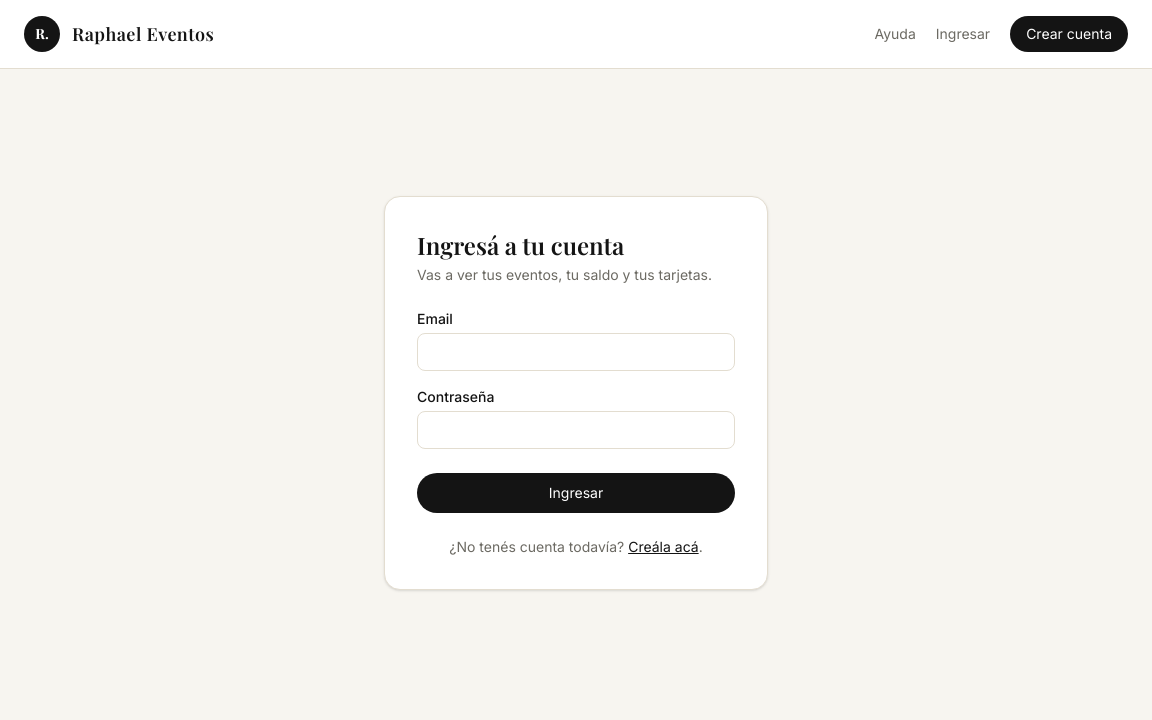
LoginPage › muestra errores de validación sin llegar a pegarle a la API
This screenshot has width=1152, height=720.
Type "no-es-un-email" into the field labelled "Email" at point(576, 352), box top-left (417, 332), bottom-right (735, 370)
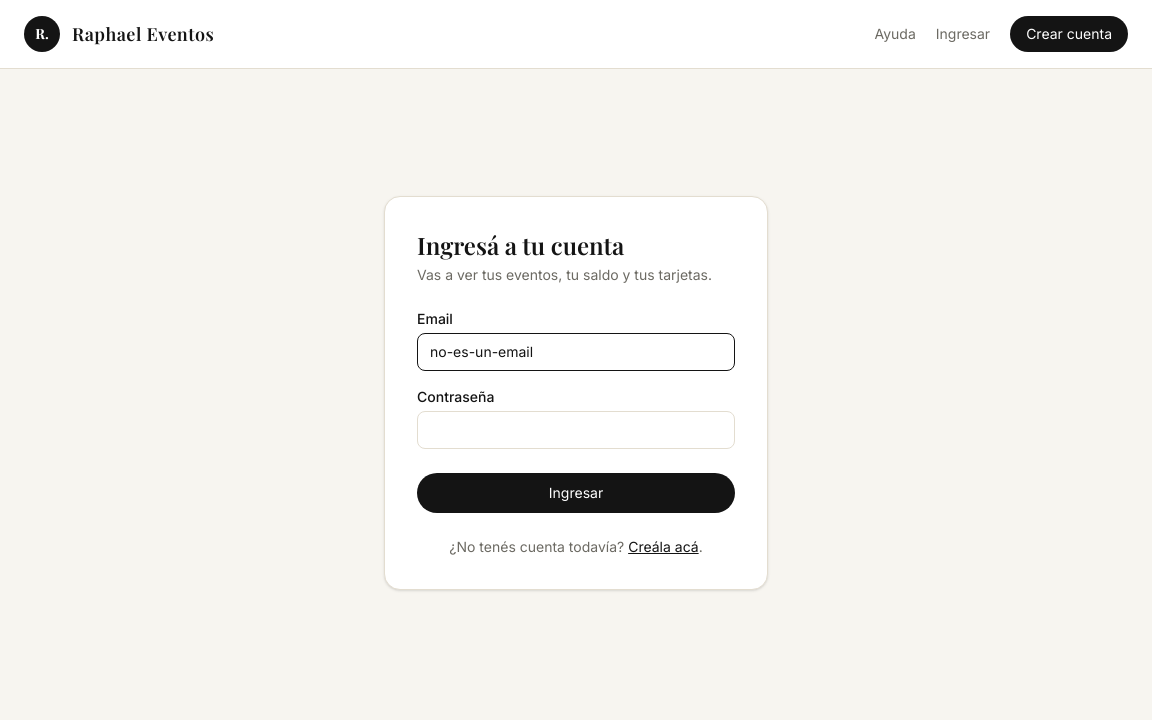
Click the button "Ingresar" at point(576, 492), box top-left (417, 472), bottom-right (735, 512)
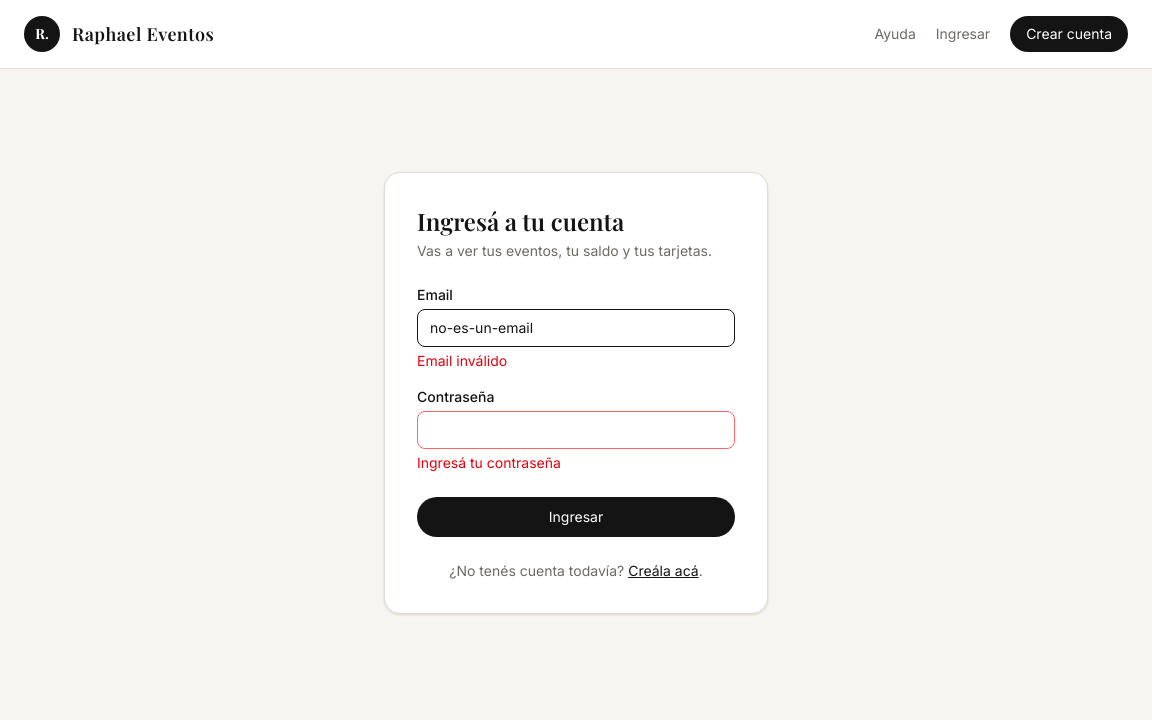
Now the text "Email inválido" is shown, box top-left (417, 352), bottom-right (507, 368)
